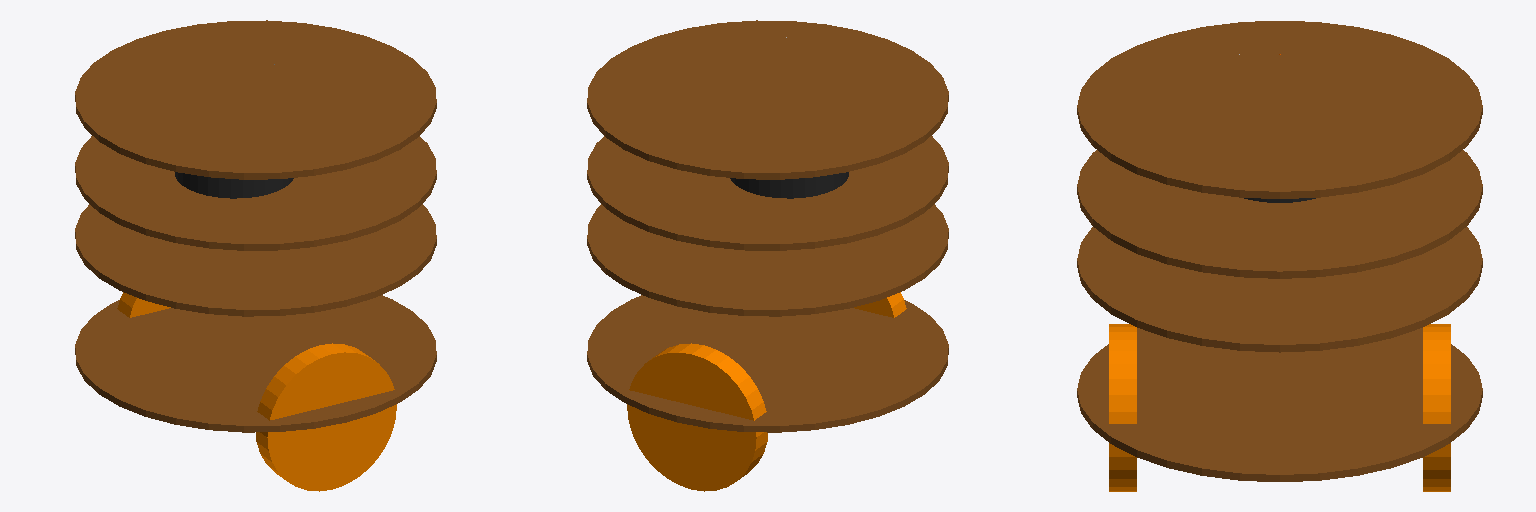
robot.urdf — Frobo:
<?xml version="1.0" ?>
<!-- =================================================================================== -->
<!-- |    This document was autogenerated by xacro from frobo.urdf.xacro               | -->
<!-- |    EDITING THIS FILE BY HAND IS NOT RECOMMENDED                                 | -->
<!-- =================================================================================== -->
<robot name="Frobo">
  <!-- The following included files set up definitions of parts of the robot body -->
  <material name="Black">
    <color rgba="0.2 0.2 0.2 1.0"/>
  </material>
  <material name="Orange">
    <color rgba="1.0  0.55 0.0 1.0"/>
  </material>
  <material name="Brown">
    <color rgba="0.55  0.35 0.15 1.0"/>
  </material>
  <material name="Grey">
    <color rgba="0.75 0.75 0.75 1.0"/>
  </material>
  <material name="Red">
    <color rgba="0.8 0.0 0.0 1.0"/>
  </material>
  <material name="White">
    <color rgba="1.0 1.0 1.0 1.0"/>
  </material>
  <material name="Blue">
    <color rgba="0.0 0.0 0.8 1.0"/>
  </material>
  <!-- Now we can start using the macros included above to define the actual Frobo -->
  <link name="base_link">
    <visual>
      <origin rpy="0 0 0" xyz="0 0 0.074"/>
      <geometry>
        <!-- <mesh filename="package://frobo_description/meshes/base.stl"  /> -->
        <cylinder length="0.006" radius="0.15"/>
      </geometry>
      <material name="Brown"/>
    </visual>
    <visual>
      <origin rpy="0 0 0" xyz="0 0 0.18"/>
      <geometry>
        <cylinder length="0.006" radius="0.15"/>
      </geometry>
      <material name="Brown"/>
    </visual>
    <visual>
      <origin rpy="0 0 0" xyz="0 0 0.24"/>
      <geometry>
        <cylinder length="0.006" radius="0.15"/>
      </geometry>
      <material name="Brown"/>
    </visual>
    <visual>
      <origin rpy="0 0 0" xyz="0 0 0.305"/>
      <geometry>
        <cylinder length="0.006" radius="0.15"/>
      </geometry>
      <material name="Brown"/>
    </visual>
    <!-- fixed wheels, without tf transform, just for visualization -->
    <visual>
      <origin rpy="1.57 0 0" xyz="0 0.116 0.06191"/>
      <geometry>
        <cylinder length="0.02032" radius="0.06191"/>
      </geometry>
      <material name="Orange"/>
    </visual>
    <visual>
      <origin rpy="1.57 0 0" xyz="0 -0.116 0.06191"/>
      <geometry>
        <cylinder length="0.02032" radius="0.06191"/>
      </geometry>
      <material name="Orange"/>
    </visual>
    <!-- fixed swivel, without tf transform, just for visualization -->
    <!--
      <visual>
        <origin xyz="-${wheel_offset_y} 0 ${swivel_radius}" rpy="1.57 0 0" />
        <geometry>
          <cylinder radius="${swivel_radius}" length="${swivel_length}"/>
        </geometry>
        <material name="Grey" />
      </visual> 
      -->
    <collision>
      <origin rpy="0 0 0" xyz="0 0 0.06191"/>
      <geometry>
        <cylinder length="0.12382" radius="0.2"/>
      </geometry>
    </collision>
  </link>
  <joint name="base_fr_sonar_joint" type="fixed">
    <origin rpy="0 0 -0.6" xyz="0.115 -0.055 0.054"/>
    <parent link="base_link"/>
    <child link="base_fr_sonar_link"/>
  </joint>
  <link name="base_fr_sonar_link">
    <visual>
      <origin rpy="-1.57 0 1.57" xyz="0 0 0"/>
      <geometry>
        <mesh filename="package://frobo_description/meshes/sonar.stl"/>
      </geometry>
      <material name="Blue"/>
    </visual>
  </link>
  <joint name="base_fc_sonar_joint" type="fixed">
    <origin rpy="0 0 0" xyz="0.125 0 0.054"/>
    <parent link="base_link"/>
    <child link="base_fc_sonar_link"/>
  </joint>
  <link name="base_fc_sonar_link">
    <visual>
      <origin rpy="-1.57 0 1.57" xyz="0 0 0"/>
      <geometry>
        <mesh filename="package://frobo_description/meshes/sonar.stl"/>
      </geometry>
      <material name="Blue"/>
    </visual>
  </link>
  <joint name="base_fl_sonar_joint" type="fixed">
    <origin rpy="0 0 0.6" xyz="0.115 0.055 0.054"/>
    <parent link="base_link"/>
    <child link="base_fl_sonar_link"/>
  </joint>
  <link name="base_fl_sonar_link">
    <visual>
      <origin rpy="-1.57 0 1.57" xyz="0 0 0"/>
      <geometry>
        <mesh filename="package://frobo_description/meshes/sonar.stl"/>
      </geometry>
      <material name="Blue"/>
    </visual>
  </link>
  <!-- Camera -->
  <joint name="head_camera_frame_joint" type="fixed">
    <origin rpy="0 0 0" xyz="0 0 0.35"/>
    <parent link="base_link"/>
    <child link="head_camera_frame"/>
  </joint>
  <link name="head_camera_frame">
    <visual>
      <origin rpy="0 0 -1.57" xyz="-0.03 0 0.02"/>
      <!--origin xyz="-0.03 -0.07 0" rpy="0 0 -1.57"-->
      <geometry>
        <mesh filename="package://frobo_description/meshes/kinect.stl"/>
      </geometry>
      <material name="Black"/>
    </visual>
    <collision>
      <origin rpy="0 0 0" xyz="0 0 0"/>
      <geometry>
        <box size="0.064 0.28 0.04"/>
      </geometry>
    </collision>
  </link>
  <joint name="head_camera_ir_joint" type="fixed">
    <origin rpy="0 0 0" xyz="0 0 0"/>
    <parent link="head_camera_frame"/>
    <child link="head_camera_ir_link"/>
  </joint>
  <link name="head_camera_ir_link">
    <visual>
      <origin rpy="0 0 0" xyz="0.0 0.0 0"/>
      <geometry>
        <sphere radius="0.0005"/>
      </geometry>
    </visual>
  </link>
  <joint name="head_camera_ir_optical_frame_joint" type="fixed">
    <origin rpy="-1.57 0.0 -1.57" xyz="0 0 0"/>
    <parent link="head_camera_ir_link"/>
    <child link="head_camera_ir_optical_frame"/>
  </joint>
  <link name="head_camera_ir_optical_frame"/>
  <joint name="head_camera_rgb_joint" type="fixed">
    <origin rpy="0 0 0" xyz="0 -0.03 0"/>
    <parent link="head_camera_ir_link"/>
    <child link="head_camera_rgb_link"/>
  </joint>
  <link name="head_camera_rgb_link">
    <visual>
      <origin rpy="0 0 0" xyz="0.0 0.0 0"/>
      <geometry>
        <sphere radius="0.0005"/>
      </geometry>
    </visual>
  </link>
  <joint name="head_camera_rgb_optical_frame_joint" type="fixed">
    <origin rpy="-1.57 0.0 -1.57" xyz="0 0 0"/>
    <parent link="head_camera_rgb_link"/>
    <child link="head_camera_rgb_optical_frame"/>
  </joint>
  <link name="head_camera_rgb_optical_frame"/>
  <!-- Lidar -->
  <joint name="lidar_joint" type="fixed">
    <origin rpy="0 0 0" xyz="-0.02 0 0.285"/>
    <parent link="base_link"/>
    <child link="lidar_link"/>
  </joint>
  <link name="lidar_link">
    <visual>
      <origin rpy="0 0 0" xyz="0 0 -0.01718"/>
      <geometry>
        <!-- <mesh filename="package://frobo_description/meshes/lidar.stl" /> -->
        <cylinder length="0.05211" radius="0.05"/>
      </geometry>
      <material name="Black"/>
    </visual>
  </link>
</robot>

--- What the picture shows (computed from the rendered views, not written in the file) ---
The picture shows the robot from 3 angles, left to right: view 1: azimuth 30°, elevation 25°; view 2: azimuth 150°, elevation 25°; view 3: azimuth 270°, elevation 25°; orthographic projection.
Robot: Frobo — 10 links, 9 joints (9 fixed); root link base_link; default pose: all joints at 0.
Visible links, largest first — view 1: base_link, lidar_link; view 2: base_link, lidar_link; view 3: base_link.
Link boxes in pixels (left/top/right/bottom): base_link: left=75, top=20, right=436, bottom=491; lidar_link: left=175, top=172, right=293, bottom=198; base_link: left=587, top=20, right=948, bottom=491; lidar_link: left=730, top=172, right=848, bottom=198; base_link: left=1077, top=21, right=1482, bottom=491.
Size in the robot's own frame: 0.3 by 0.3 by 0.3505 metres.
Meshes: 2 distinct files referenced, 0 mesh visuals loaded (none loaded); not drawn: 4 (reference not matched to a file when rendering).